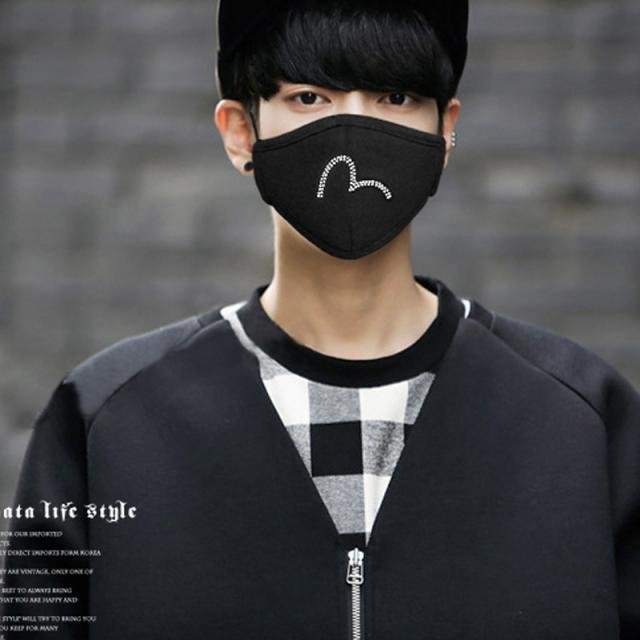mask: (257, 27, 442, 255)
